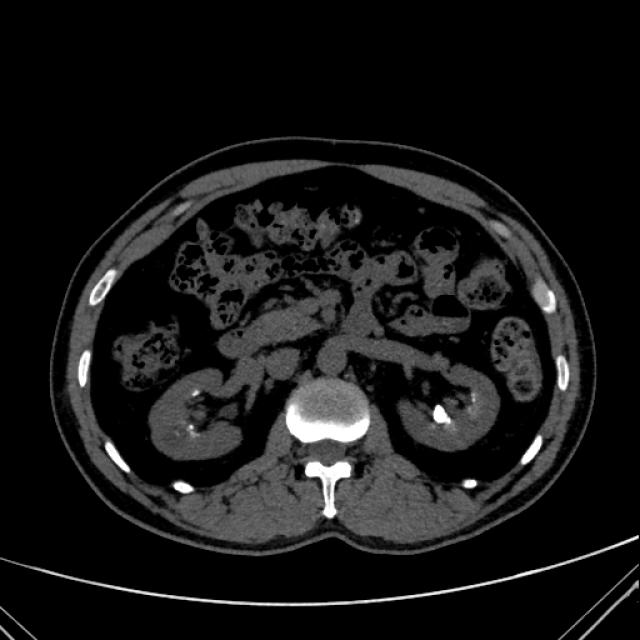kidneystone: (432, 404, 451, 424), (189, 420, 200, 433), (191, 389, 201, 397)
